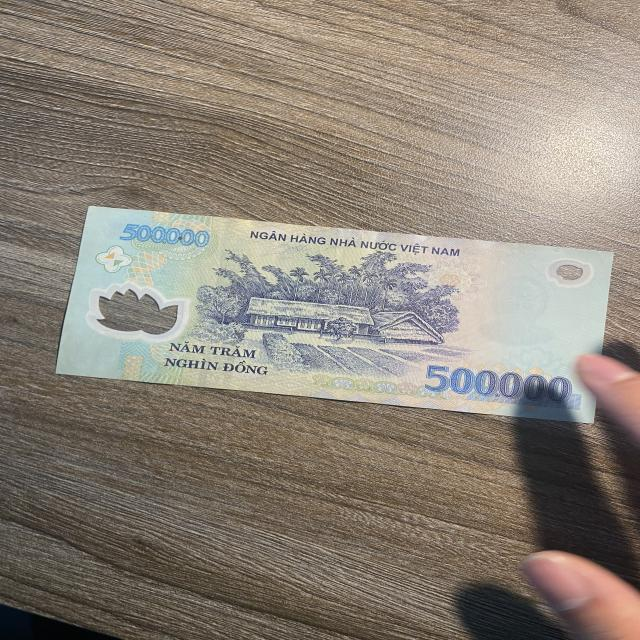500 000 VND: (53, 202, 614, 426)
